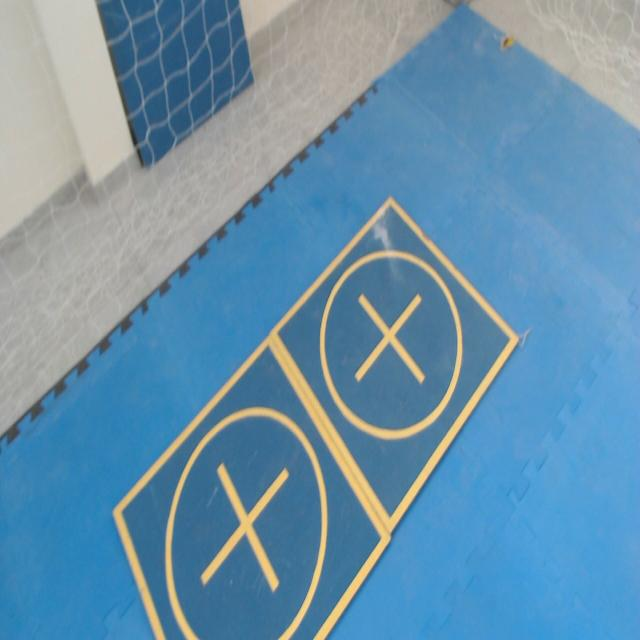base_pouso: (271, 194, 520, 535), (113, 333, 390, 639)
